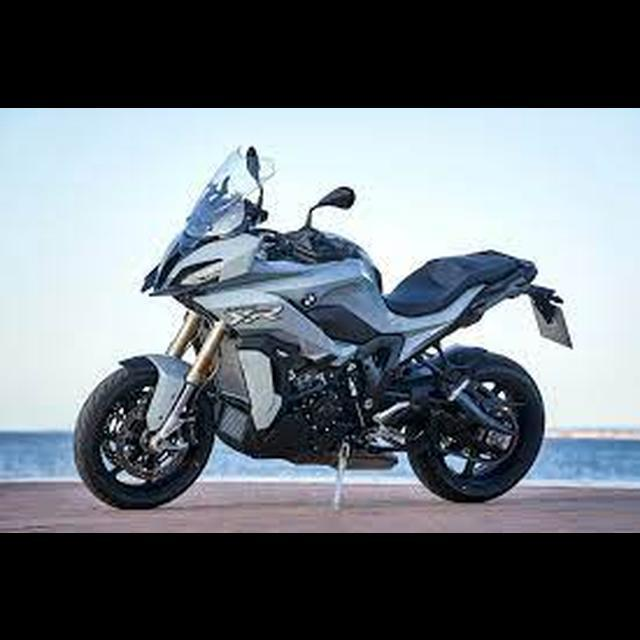motorcycle: (73, 139, 577, 511)
